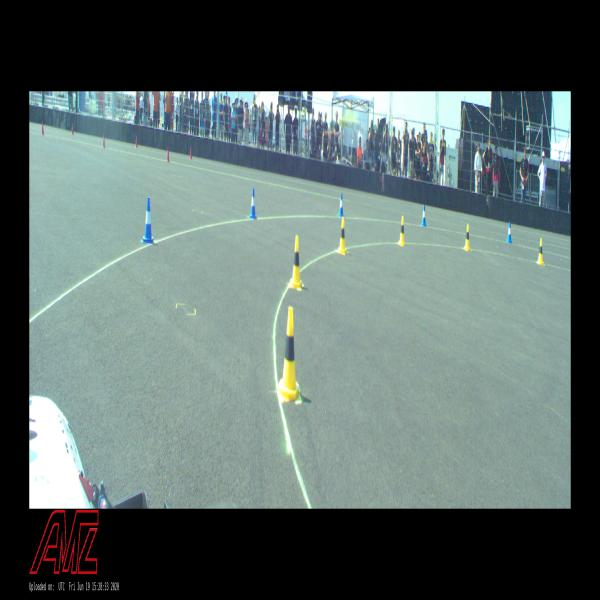blue_cone: (142, 198, 154, 243), (250, 188, 256, 218), (338, 193, 344, 216), (421, 204, 426, 226), (507, 222, 512, 242)
unknown_cone: (166, 147, 170, 162), (70, 123, 74, 136), (41, 120, 44, 136), (102, 133, 105, 148), (135, 136, 138, 148), (190, 147, 192, 159)
yellow_cone: (278, 307, 299, 399), (290, 236, 302, 287), (339, 218, 346, 253), (537, 238, 544, 264), (399, 216, 405, 244), (464, 224, 470, 250)
